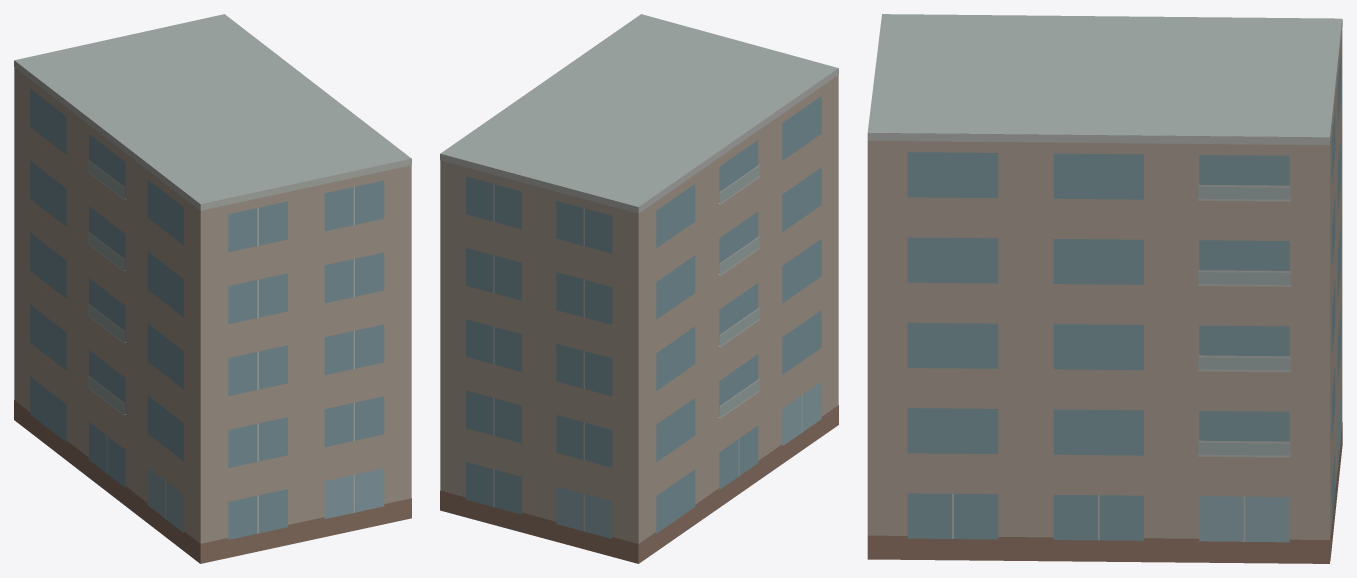
The model's file is survey-upis-33001240.glb.
The picture shows the model from 3 angles, left to right: view 1: azimuth 30°, elevation 25°; view 2: azimuth 150°, elevation 25°; view 3: azimuth 270°, elevation 25°; orthographic projection. The views are drawn at different scales.
Parts seen in each view (by area): view 1: survey-upis-33001240.tmp; view 2: survey-upis-33001240.tmp; view 3: survey-upis-33001240.tmp.
Boxes of the visible parts, x1,y1,x2,y2 form: survey-upis-33001240.tmp: (14, 14, 411, 563); survey-upis-33001240.tmp: (440, 14, 838, 563); survey-upis-33001240.tmp: (867, 14, 1342, 563).
Bounding box in the file's own units: 8.2 × 13.2 × 13.33.
